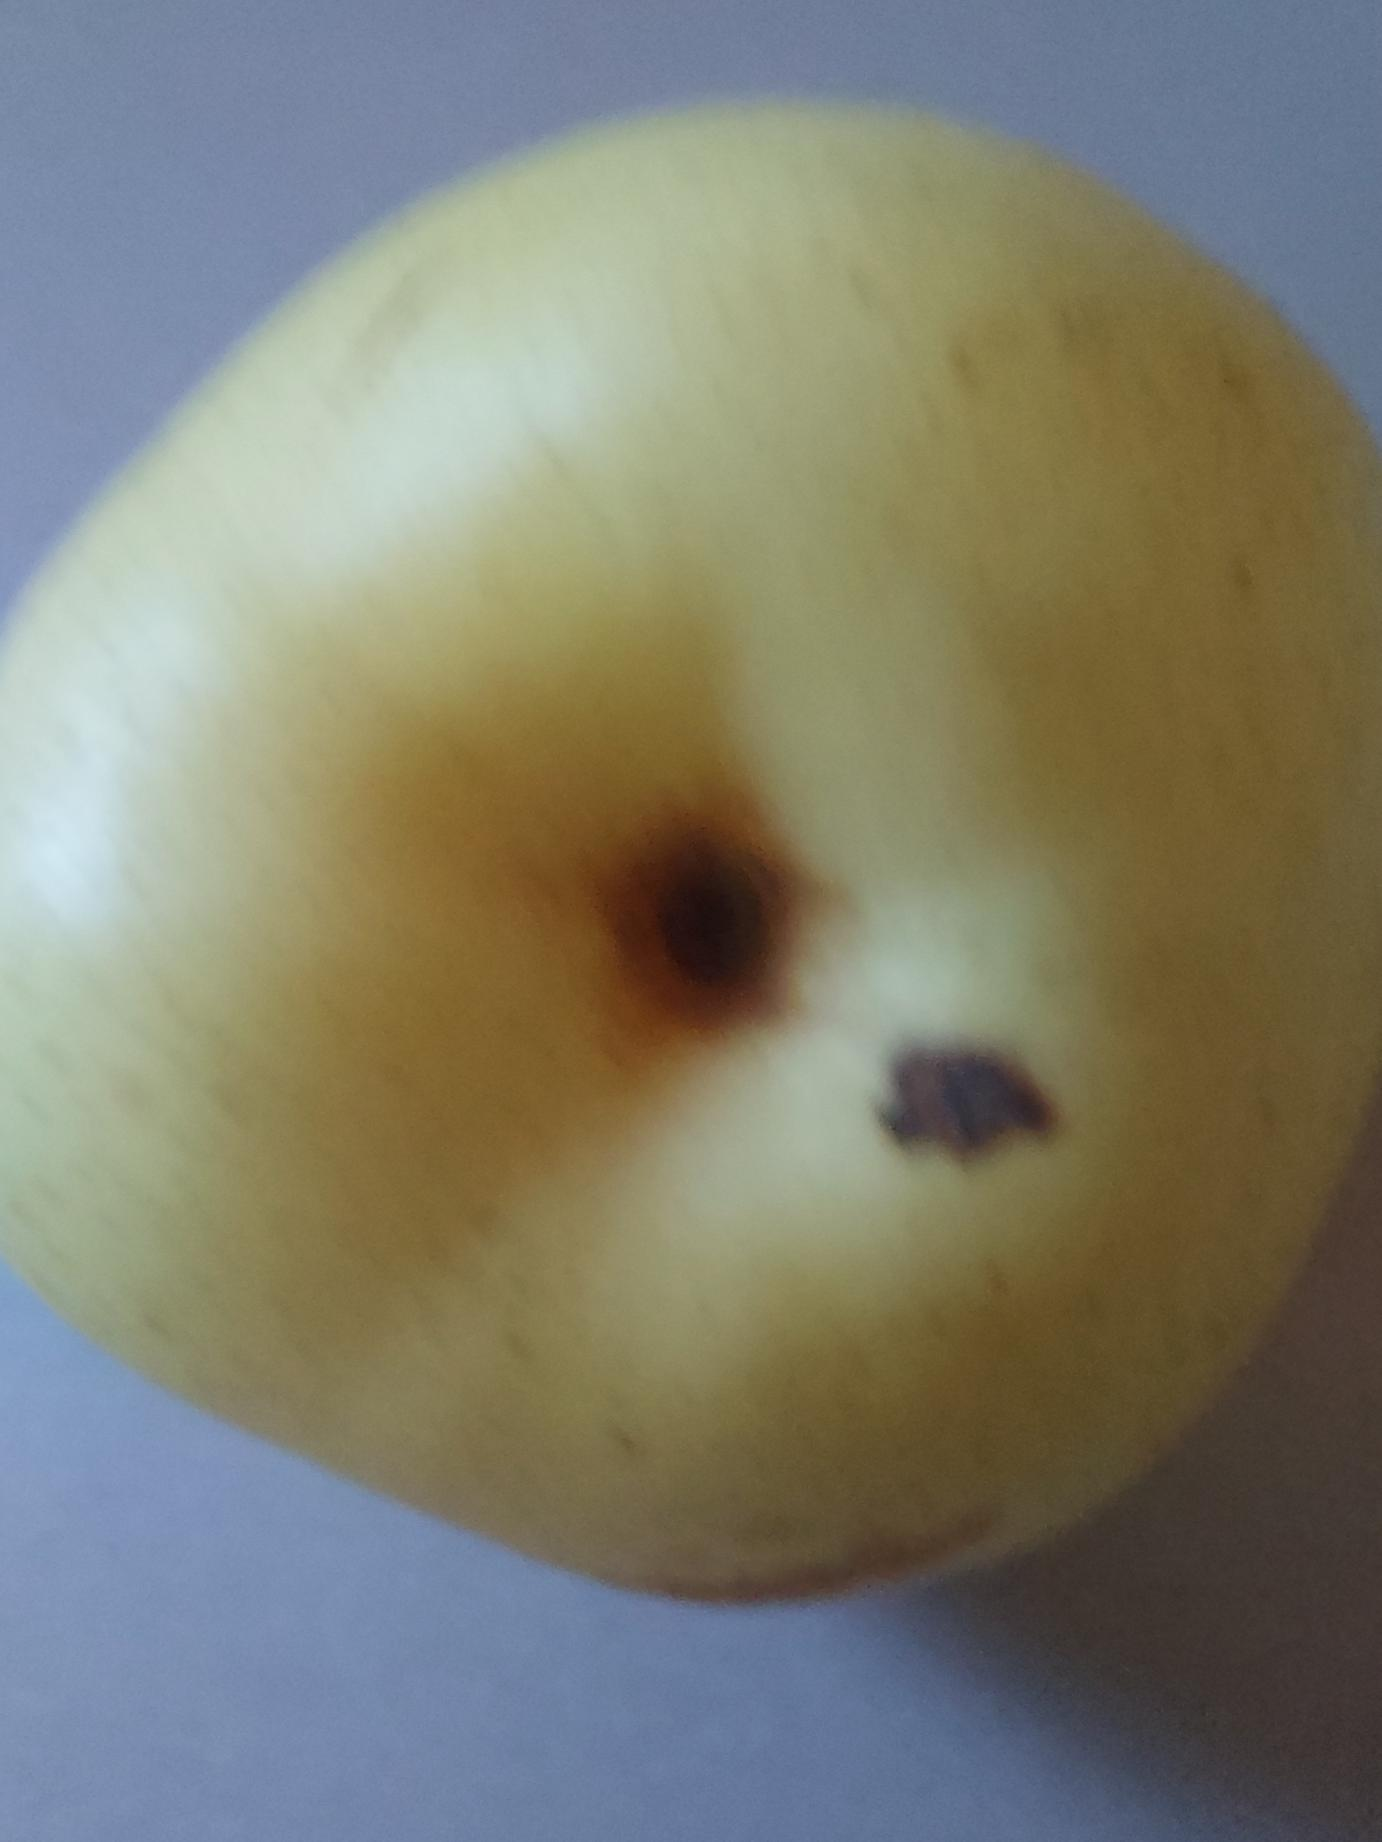Good Pear: (0, 49, 1382, 1785)
